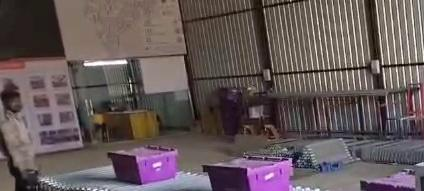box: (203, 158, 292, 190), (107, 146, 177, 184), (362, 173, 415, 190)
